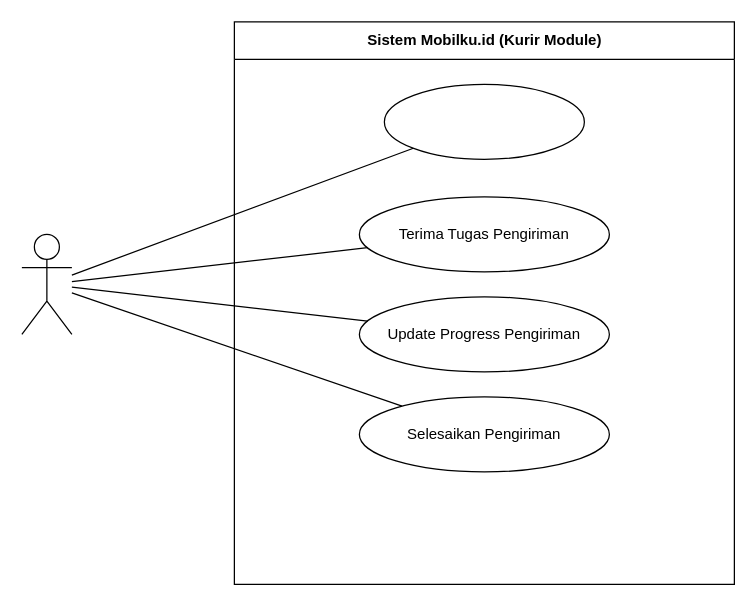
Some shapes in this 756 by 606 pixel diagram are drawn without their labels. The shapes that lost their labels are listed below. From the top down, each one's centre as x and y in pixels, then its label:
(483,121): Login
(46,283): Kurir
